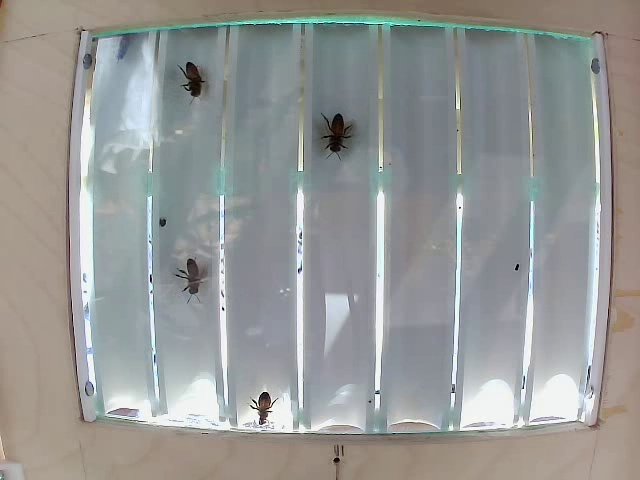bee: (157, 42, 225, 122), (183, 256, 229, 308), (320, 109, 364, 161)
